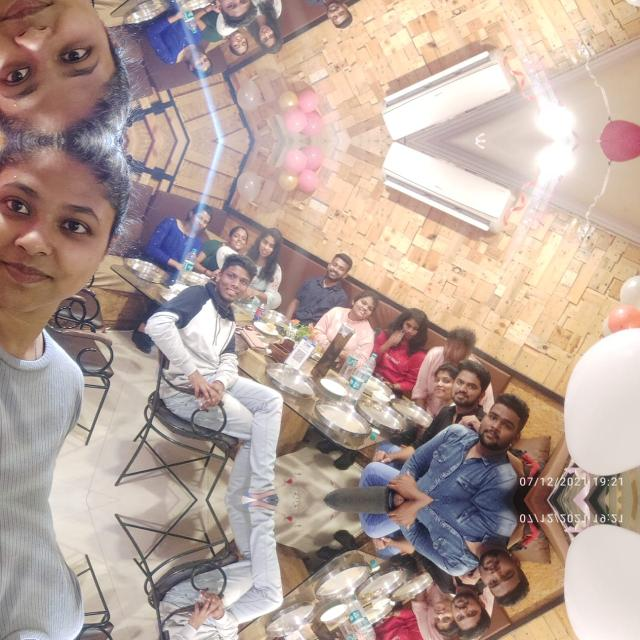person: (0, 140, 134, 490), (0, 0, 134, 140), (0, 508, 134, 640), (192, 255, 258, 445), (192, 554, 257, 640), (323, 286, 385, 362), (469, 536, 537, 604), (469, 396, 537, 462), (388, 300, 430, 390), (170, 203, 208, 265), (170, 15, 208, 77), (253, 228, 287, 286), (315, 252, 351, 304), (454, 578, 484, 638), (454, 362, 484, 421), (253, 0, 287, 52), (192, 0, 257, 25), (428, 361, 459, 412), (428, 588, 459, 638), (387, 609, 430, 640), (218, 216, 246, 254), (218, 26, 246, 64), (315, 0, 351, 28), (323, 637, 385, 640)
